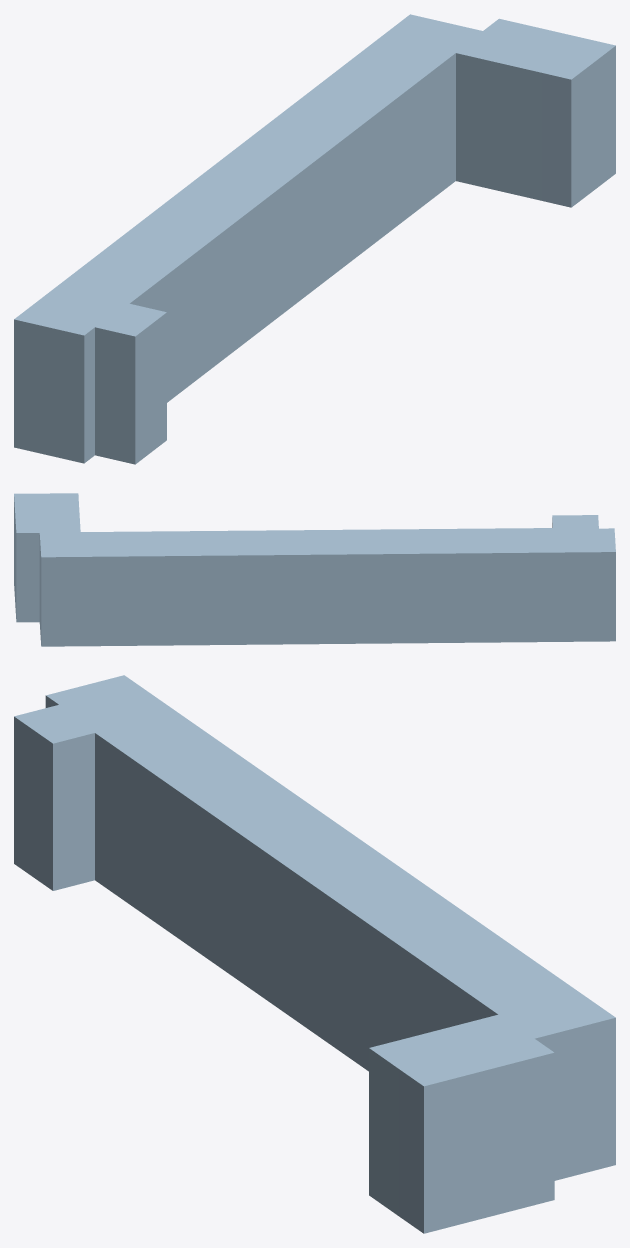
File: osm_way_225253707.glb
3 renders of one model, top to bottom at view 1: azimuth 30°, elevation 25°; view 2: azimuth 150°, elevation 25°; view 3: azimuth 270°, elevation 25°, orthographic. The views are drawn at different scales.
Parts seen in each view (by area): view 1: osm_way_225253707; view 2: osm_way_225253707; view 3: osm_way_225253707.
Boxes of the visible parts, bbox=[...] form: osm_way_225253707: bbox=[14, 14, 615, 464]; osm_way_225253707: bbox=[14, 493, 615, 646]; osm_way_225253707: bbox=[14, 675, 615, 1233].
Size of the model in its own units: 115 by 19.2 by 71.06.
